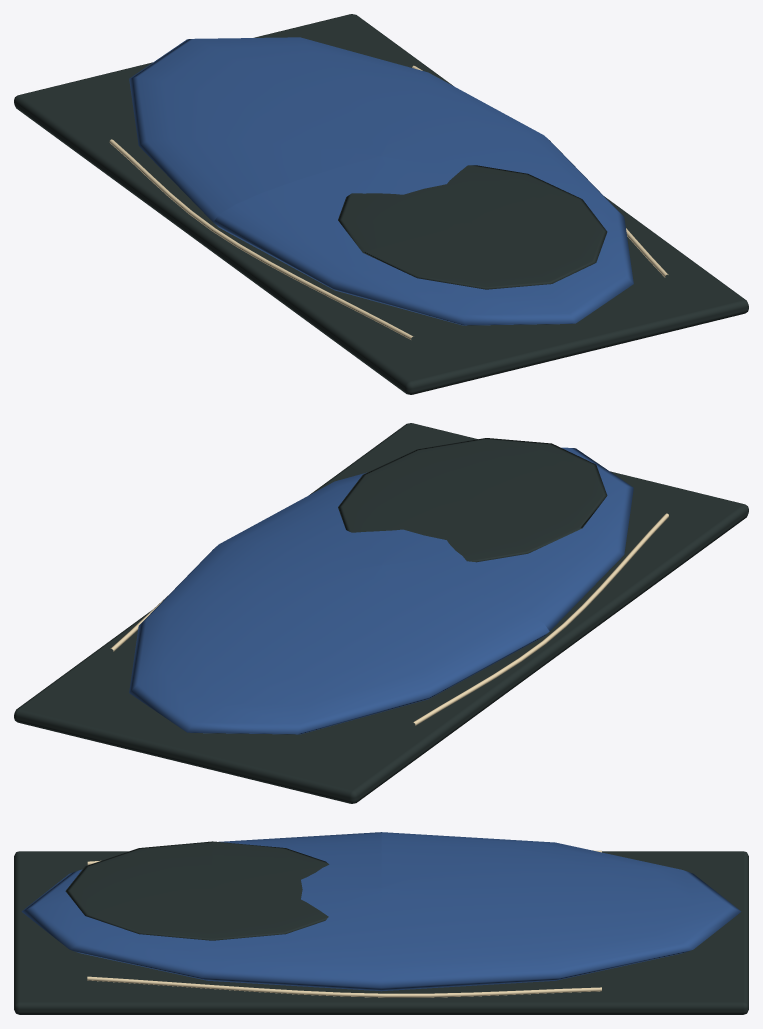
The model's file is breakfast-slipper-light.glb.
The picture shows the model from 3 angles, top to bottom: view 1: azimuth 30°, elevation 25°; view 2: azimuth 150°, elevation 25°; view 3: azimuth 270°, elevation 25°; orthographic projection. The views are drawn at different scales.
Parts seen in each view (by area): view 1: blue, dark, cream; view 2: blue, dark, cream; view 3: blue, dark, cream.
Part boxes in pixels (bbox=[...]): blue: bbox=[129, 37, 633, 325]; dark: bbox=[14, 14, 748, 394]; cream: bbox=[109, 65, 668, 339]; blue: bbox=[129, 447, 633, 734]; dark: bbox=[14, 423, 748, 803]; cream: bbox=[110, 513, 668, 725]; blue: bbox=[21, 832, 741, 991]; dark: bbox=[14, 841, 748, 1014]; cream: bbox=[87, 850, 601, 997].
Size of the model in its own units: 3 by 0.46 by 6.
